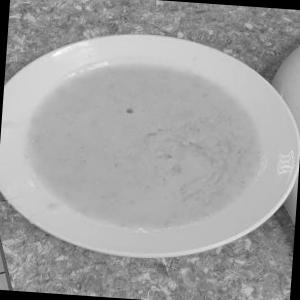porridge: (11, 41, 286, 245)
